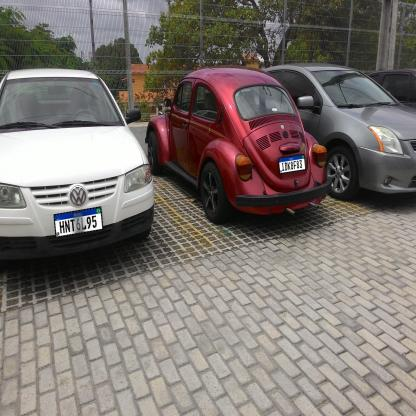PlacaM: (53, 206, 104, 238), (278, 154, 306, 174)
